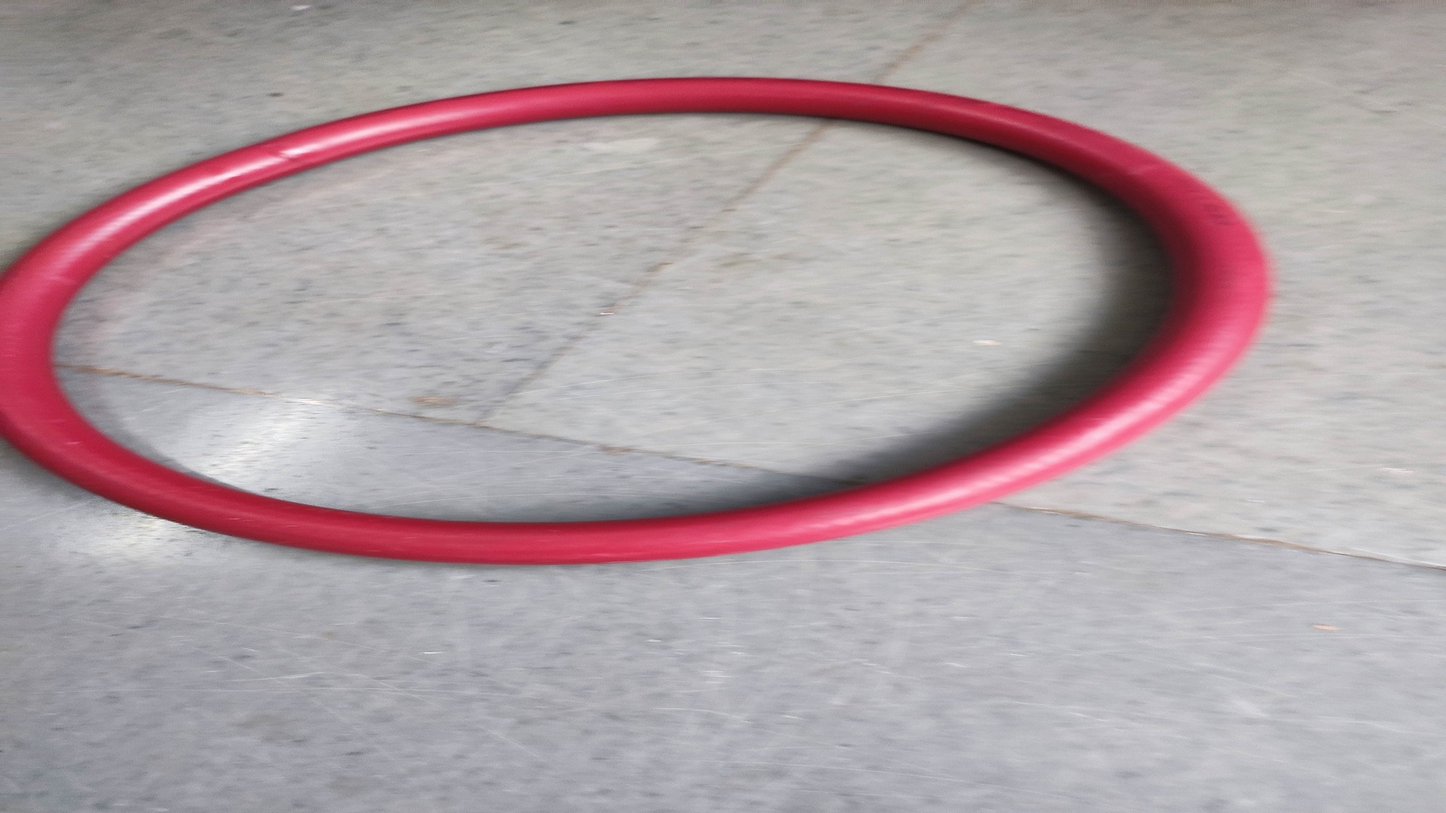Red ring: (3, 77, 1269, 556)
